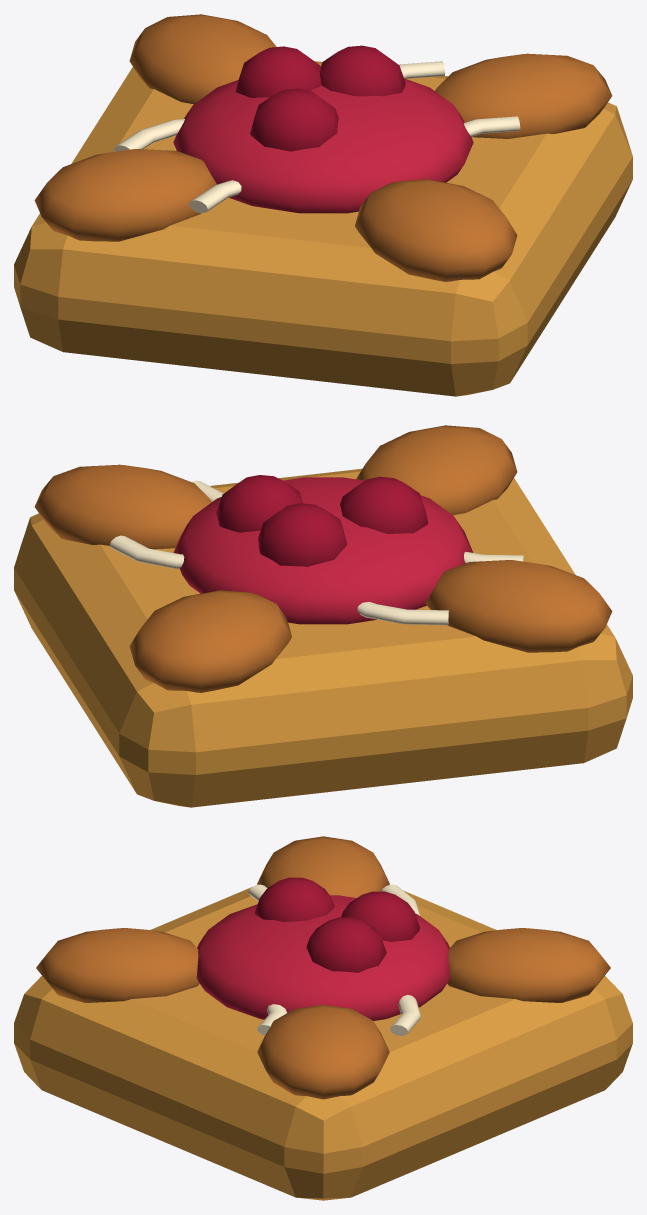
Rendered from cherry-danish.glb.
3 renders of one model, top to bottom at view 1: azimuth 30°, elevation 25°; view 2: azimuth 150°, elevation 25°; view 3: azimuth 270°, elevation 25°, orthographic. The views are drawn at different scales.
Parts seen in each view (by area): view 1: edible_pastry, edible_cherry_filling, edible_fold.003, edible_fold.002, edible_fold, edible_fold.001, edible_cherry, edible_cherry.001, edible_cherry.002, edible_glaze.001, edible_glaze.002; view 2: edible_pastry, edible_cherry_filling, edible_fold.002, edible_fold.001, edible_fold, edible_fold.003, edible_cherry.002, edible_cherry, edible_cherry.001, edible_glaze.002, edible_glaze.001; view 3: edible_pastry, edible_cherry_filling, edible_fold.001, edible_fold.003, edible_fold, edible_fold.002, edible_cherry.001, edible_cherry, edible_cherry.002, edible_glaze.002, edible_glaze.001.
Boxes of the visible parts, box(x1,y1,x2,y2) form: edible_pastry: box(14, 61, 632, 396); edible_cherry_filling: box(173, 78, 473, 213); edible_fold.003: box(355, 179, 517, 281); edible_fold.002: box(34, 149, 216, 241); edible_fold: box(435, 53, 612, 138); edible_fold.001: box(129, 14, 276, 104); edible_cherry: box(250, 88, 338, 151); edible_cherry.001: box(319, 45, 405, 96); edible_cherry.002: box(235, 46, 321, 97); edible_glaze.001: box(189, 116, 520, 213); edible_glaze.002: box(114, 61, 445, 151); edible_pastry: box(14, 468, 632, 807); edible_cherry_filling: box(173, 477, 473, 624); edible_fold.002: box(425, 560, 612, 652); edible_fold.001: box(129, 590, 291, 692); edible_fold: box(34, 464, 211, 549); edible_fold.003: box(356, 425, 517, 515); edible_cherry.002: box(258, 503, 347, 566); edible_cherry: box(340, 477, 428, 533); edible_cherry.001: box(216, 475, 302, 532); edible_glaze.002: box(109, 535, 448, 625); edible_glaze.001: box(192, 480, 523, 563); edible_pastry: box(14, 885, 632, 1200); edible_cherry_filling: box(196, 895, 450, 1020); edible_fold.001: box(447, 928, 610, 1002); edible_fold.003: box(36, 928, 199, 1002); edible_fold: box(257, 1004, 389, 1099); edible_fold.002: box(257, 836, 389, 897); edible_cherry.001: box(306, 917, 386, 972); edible_cherry: box(254, 877, 334, 921); edible_cherry.002: box(341, 891, 419, 941); edible_glaze.002: box(381, 884, 420, 1035); edible_glaze.001: box(248, 884, 287, 1035).
Size of the model in its own units: 0.1119 by 0.0385 by 0.1119.
